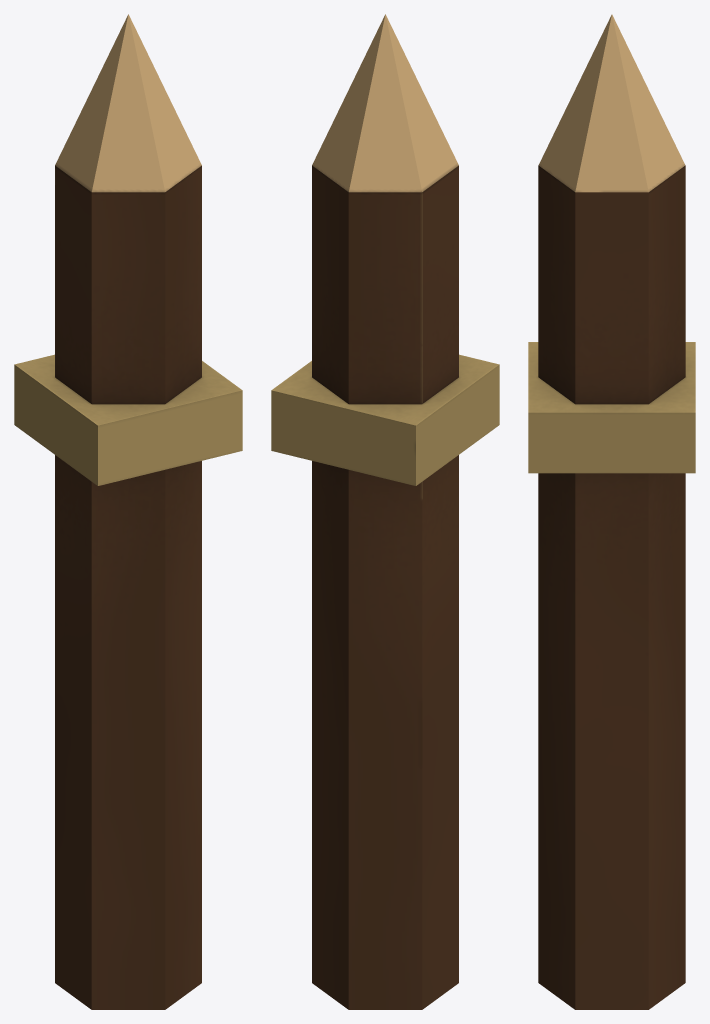
Rendered from fort_l1_post.glb.
3 views of the same model, side by side, from view 1: azimuth 30°, elevation 25°; view 2: azimuth 150°, elevation 25°; view 3: azimuth 270°, elevation 25° (orthographic).
Parts seen in each view (by area): view 1: fort_l1_post; view 2: fort_l1_post; view 3: fort_l1_post.
Part boxes in pixels (x1,y1,x2,y2): fort_l1_post: (14, 14, 242, 1009); fort_l1_post: (271, 14, 499, 1009); fort_l1_post: (528, 14, 695, 1009).
Bounding box in the file's own units: 0.05 × 0.32 × 0.05.
1 material, 1 textured.
